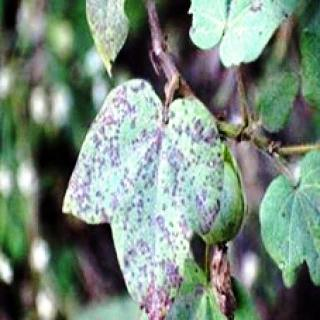leaf spot: (68, 83, 218, 320)
